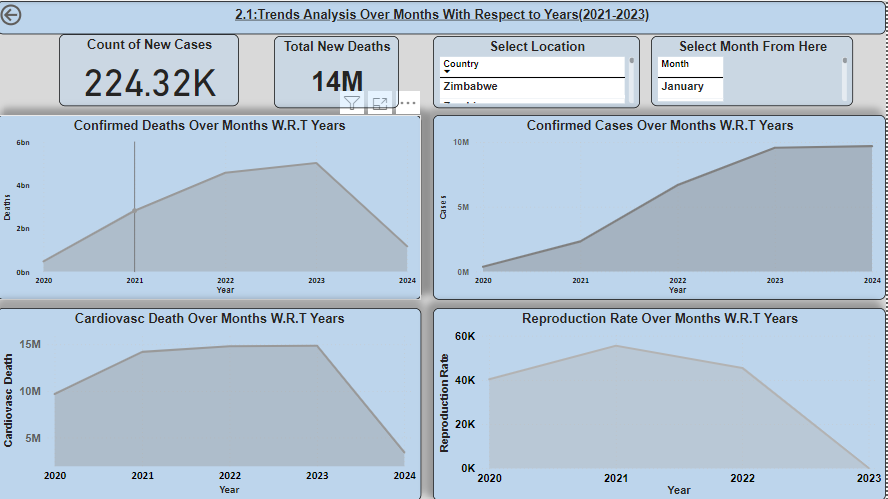

The dashboard page shown, as its layout file describes it:
{"tool":"powerbi","page":{"name":"Time Series Analysis","canvas":[1280,720],"ordinal":1},"visuals":[{"type":"lineChart","title":"Confirmed Deaths By Yeats","fields":{"Category":["owid-covid-data.date.Variation.Date Hierarchy.Year"],"Y":["Sum(owid-covid-data.total_deaths)"]},"box":[0,164.2,610.6,266.4],"z":0},{"type":"textbox","box":[0,0,1280.2,47.5],"z":1000},{"type":"lineChart","title":"Cardiovasc Death vs Year","fields":{"Y":["Sum(owid-covid-data.cardiovasc_death_rate)"],"Category":["owid-covid-data.date.Variation.Date Hierarchy.Year","owid-covid-data.date.Variation.Date Hierarchy.Month","owid-covid-data.date.Variation.Date Hierarchy.Day"]},"box":[0,442.1,610.6,277.9],"z":2000},{"type":"lineChart","title":"Confirmed Cases By Year","fields":{"Y":["Avg(owid-covid-data.total_cases)"],"Category":["owid-covid-data.date.Variation.Date Hierarchy.Year"]},"box":[627.8,164.2,652.3,266.4],"z":3000},{"type":"lineChart","title":"Reproduction Rate By Year","fields":{"Category":["owid-covid-data.date.Variation.Date Hierarchy.Year"],"Y":["Sum(owid-covid-data.reproduction_rate)"]},"box":[627.8,442.1,652.3,277.9],"z":4000},{"type":"actionButton","box":[0,0,100,40],"z":5000},{"type":"card","title":"Count of New Cases","fields":{"Values":["CountNonNull(owid-covid-data.new_cases)"]},"box":[89.3,47.5,259.2,103.7],"z":6000},{"type":"card","title":"Total New Deaths","fields":{"Values":["Sum(owid-covid-data.new_deaths)"]},"box":[550.1,47.5,180,103.7],"z":7000},{"type":"tableEx","title":"Select Date From Here","fields":{"Values":["owid-covid-data.date.Variation.Date Hierarchy.Year","owid-covid-data.date.Variation.Date Hierarchy.Quarter","owid-covid-data.date.Variation.Date Hierarchy.Month","owid-covid-data.date.Variation.Date Hierarchy.Day"]},"box":[1015.2,53.3,244.8,90.7],"z":8000}]}

Visuals, with their boxes in screenshot pixels (x1, y1, x2, y2), scaled from the page's 1280x720 canvas onto the 888x499 screenshot:
"Confirmed Deaths By Yeats" lineChart: [x1=0, y1=114, x2=424, y2=298]
textbox: [x1=0, y1=0, x2=887, y2=33]
"Cardiovasc Death vs Year" lineChart: [x1=0, y1=306, x2=424, y2=498]
"Confirmed Cases By Year" lineChart: [x1=436, y1=114, x2=887, y2=298]
"Reproduction Rate By Year" lineChart: [x1=436, y1=306, x2=887, y2=498]
actionButton: [x1=0, y1=0, x2=69, y2=28]
"Count of New Cases" card: [x1=62, y1=33, x2=242, y2=105]
"Total New Deaths" card: [x1=382, y1=33, x2=507, y2=105]
"Select Date From Here" tableEx: [x1=704, y1=37, x2=874, y2=100]
